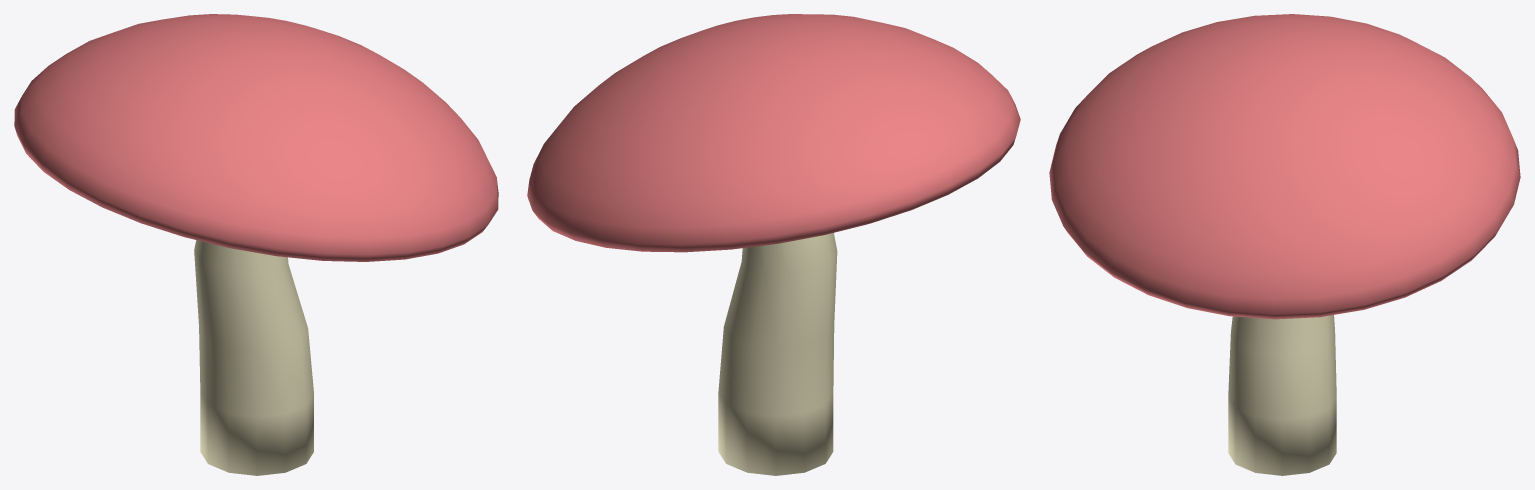
The model's file is Mushroom01.fbx.
The picture shows the model from 3 angles, left to right: view 1: azimuth 30°, elevation 25°; view 2: azimuth 150°, elevation 25°; view 3: azimuth 270°, elevation 25°; orthographic projection. The views are drawn at different scales.
Parts seen in each view (by area): view 1: Sphere; view 2: Sphere; view 3: Sphere.
Part boxes in pixels (bbox=[...]): Sphere: bbox=[14, 14, 498, 475]; Sphere: bbox=[527, 14, 1020, 475]; Sphere: bbox=[1049, 14, 1520, 475].
Size of the model in its own units: 196 by 184 by 200.
